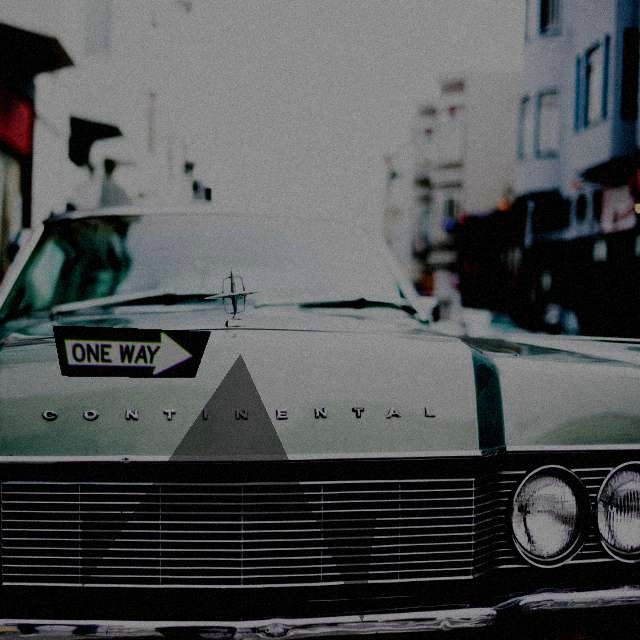ONE_WAY_ right: (52, 325, 211, 378)
